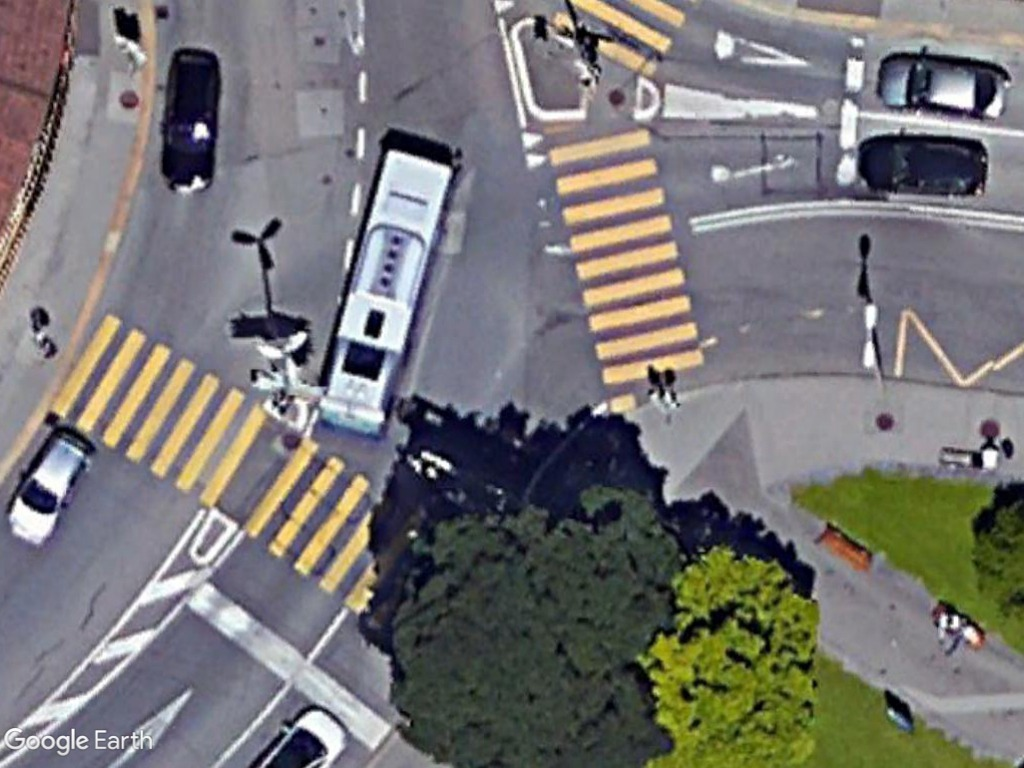bus: (308, 139, 463, 440)
car: (2, 421, 97, 547), (869, 49, 1013, 126), (158, 40, 226, 197)
